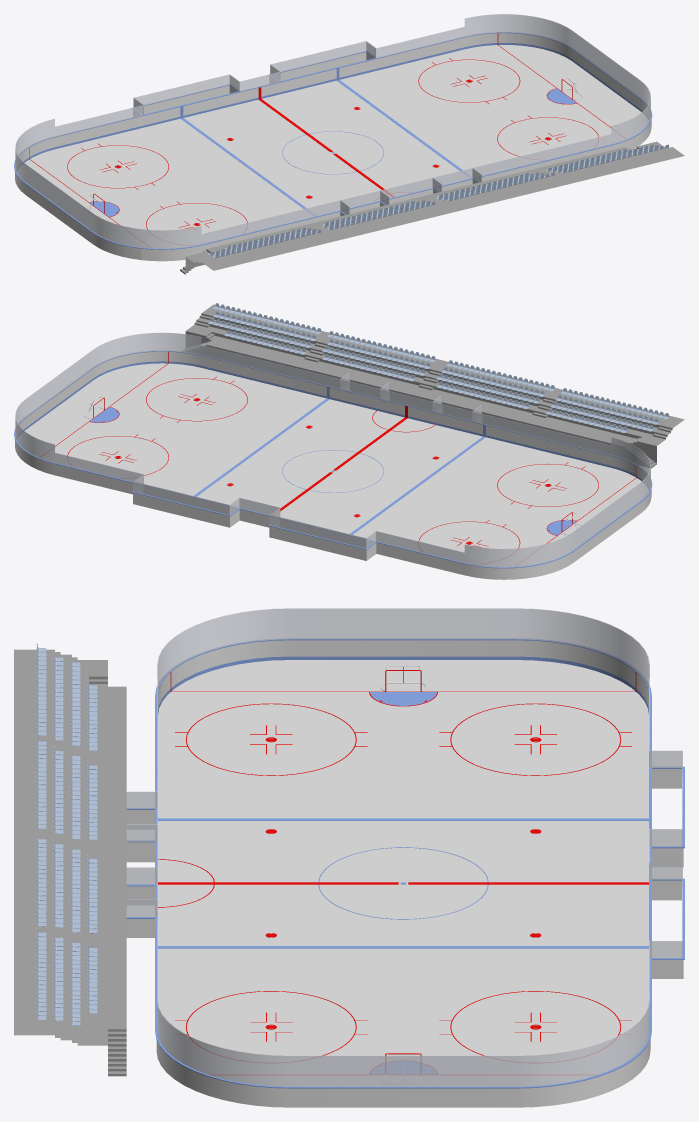
Rendered from IceRink.fbx.
3 renders of one model, top to bottom at view 1: azimuth 30°, elevation 25°; view 2: azimuth 150°, elevation 25°; view 3: azimuth 270°, elevation 25°, orthographic. The views are drawn at different scales.
Parts seen in each view (by area): view 1: IceHockeyRink; view 2: IceHockeyRink; view 3: IceHockeyRink.
Boxes of the visible parts, x1,y1,x2,y2 form: IceHockeyRink: (14, 14, 684, 274); IceHockeyRink: (14, 303, 684, 579); IceHockeyRink: (14, 608, 684, 1107).
Size of the model in its own units: 5630 by 326 by 3552.
